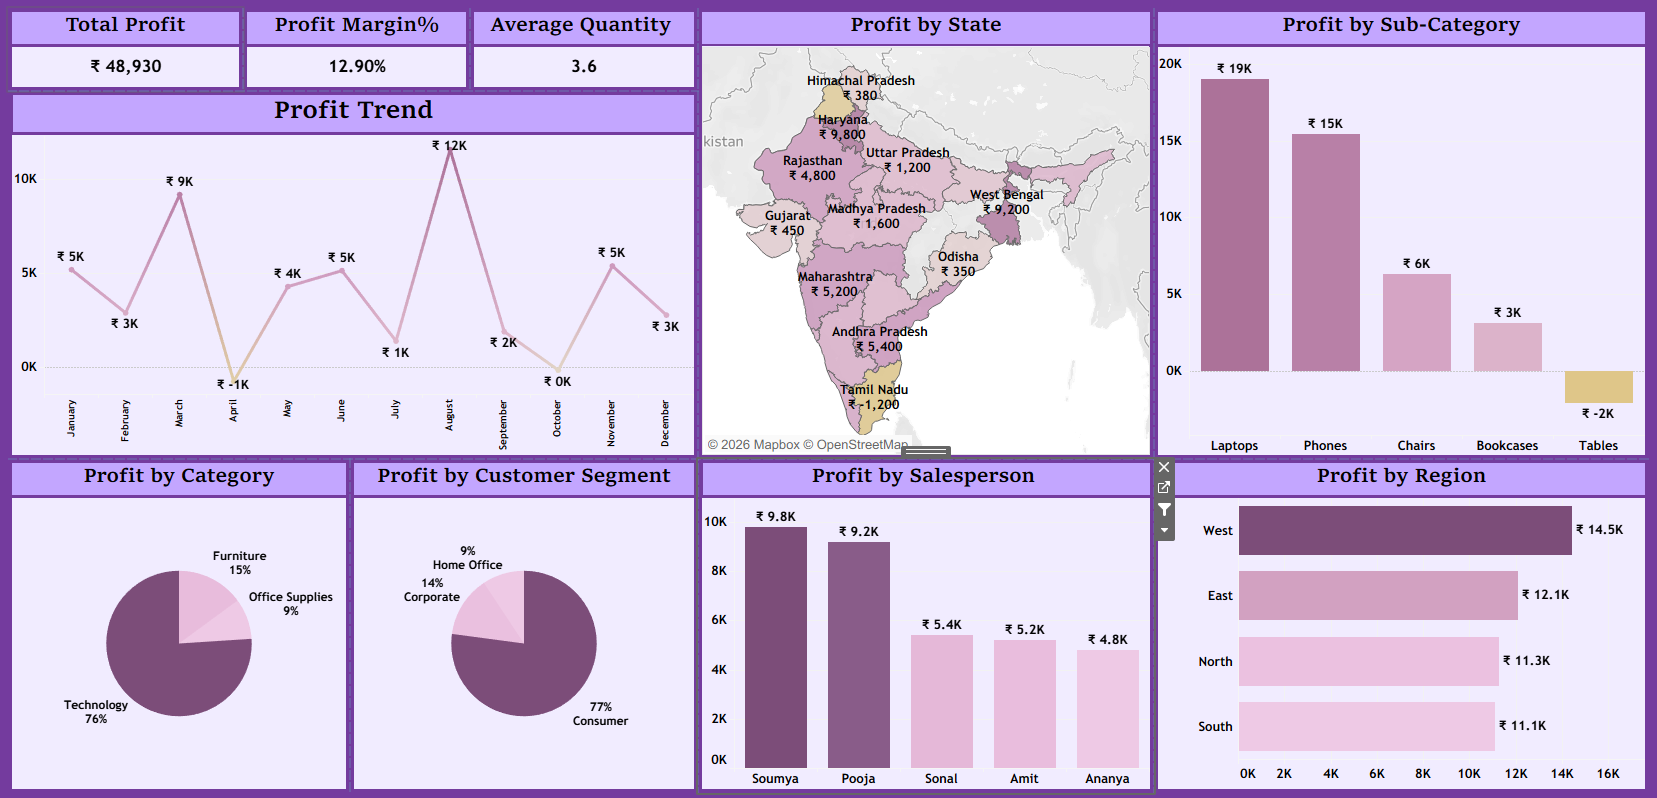

The dashboard page shown, as its layout file describes it:
{"tool":"tableau","page":{"name":"Profit Analysis","canvas":[1000,1000],"units":"permille","ordinal":0},"visuals":[{"type":"worksheet","title":"TP","mark":"Automatic","box":[4.8,10,141.7,103.5]},{"type":"worksheet","title":"PM%","mark":"Automatic","box":[146.6,10,137.3,103.5]},{"type":"worksheet","title":"AQ","mark":"Automatic","box":[283.9,10,137.3,103.5]},{"type":"worksheet","title":"PbS","mark":"Multipolygon","box":[421.2,10,275.2,563]},{"type":"worksheet","title":"PSC","mark":"Bar","rows":["Profit"],"cols":["SubCategory"],"box":[696.4,10,298.8,563]},{"type":"worksheet","title":"PT ","mark":"Automatic","rows":["Profit"],"cols":["OrderDate"],"box":[4.8,113.5,416.4,459.5]},{"type":"worksheet","title":"PC","mark":"Pie","box":[4.8,573,206.4,417]},{"type":"worksheet","title":"PCS","mark":"Pie","box":[211.2,573,210,417]},{"type":"worksheet","title":"TPSP","mark":"Automatic","rows":["Profit"],"cols":["SalesPerson"],"box":[421.2,573,275.2,417]},{"type":"worksheet","title":"PR","mark":"Bar","rows":["Region"],"cols":["Profit"],"box":[696.4,573,298.8,417]}]}

Visuals, with their boxes on the dashboard's canvas, which has no fixed pixel size, in thousandths of its width and height (x1, y1, x2, y2). These are canvas units, not pixel positions in the 1657x798 screenshot, which may show the page scaled, cropped or inside an application window:
"TP" worksheet: <region>5, 10, 146, 114</region>
"PM%" worksheet: <region>147, 10, 284, 114</region>
"AQ" worksheet: <region>284, 10, 421, 114</region>
"PbS" worksheet (Multipolygon marks): <region>421, 10, 696, 573</region>
"PSC" worksheet (Bar marks): <region>696, 10, 995, 573</region>
"PT " worksheet: <region>5, 114, 421, 573</region>
"PC" worksheet (Pie marks): <region>5, 573, 211, 990</region>
"PCS" worksheet (Pie marks): <region>211, 573, 421, 990</region>
"TPSP" worksheet: <region>421, 573, 696, 990</region>
"PR" worksheet (Bar marks): <region>696, 573, 995, 990</region>
